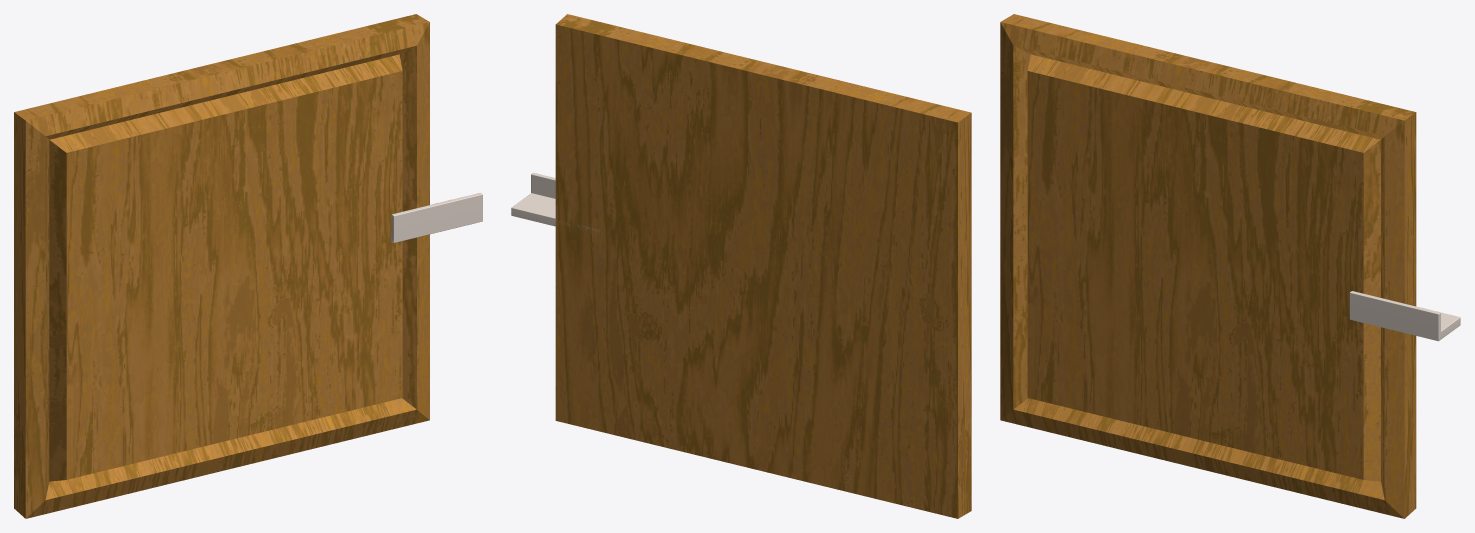
Rendered from Cabinet_db45c001.obj.
The picture shows the model from 3 angles, left to right: view 1: azimuth 30°, elevation 25°; view 2: azimuth 150°, elevation 25°; view 3: azimuth 330°, elevation 25°; orthographic projection.
Parts seen in each view (by area): view 1: Mesh_c3f6d33a, handle_3_76mm_01_0587ac02; view 2: Mesh_c3f6d33a, handle_3_76mm_01_0587ac02; view 3: Mesh_c3f6d33a, handle_3_76mm_01_0587ac02.
Part boxes in pixels (x1,y1,x2,y2): Mesh_c3f6d33a: [14, 14, 429, 518]; handle_3_76mm_01_0587ac02: [391, 193, 482, 242]; Mesh_c3f6d33a: [555, 14, 971, 518]; handle_3_76mm_01_0587ac02: [511, 172, 599, 232]; Mesh_c3f6d33a: [1000, 14, 1416, 518]; handle_3_76mm_01_0587ac02: [1349, 291, 1460, 341].
Size of the model in its own units: 0.3813 by 0.324 by 0.0326.
